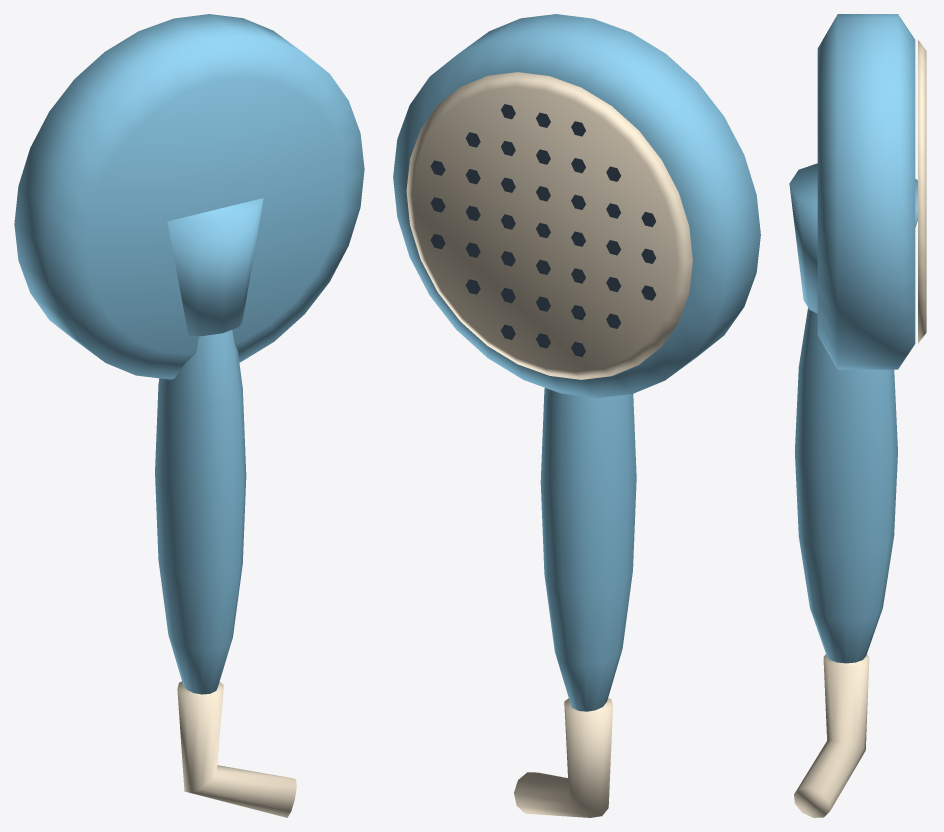
Rendered from shower_wide.glb.
The picture shows the model from 3 angles, left to right: view 1: azimuth 30°, elevation 25°; view 2: azimuth 150°, elevation 25°; view 3: azimuth 270°, elevation 25°; orthographic projection. The views are drawn at different scales.
Parts seen in each view (by area): view 1: Body; view 2: Body; view 3: Body.
Boxes of the visible parts, x1,y1,x2,y2 form: Body: (14, 14, 364, 817); Body: (393, 14, 760, 817); Body: (789, 14, 926, 817).
Bounding box in the file's own units: 0.1194 × 0.28 × 0.0471.
3 materials, 3 textured.
